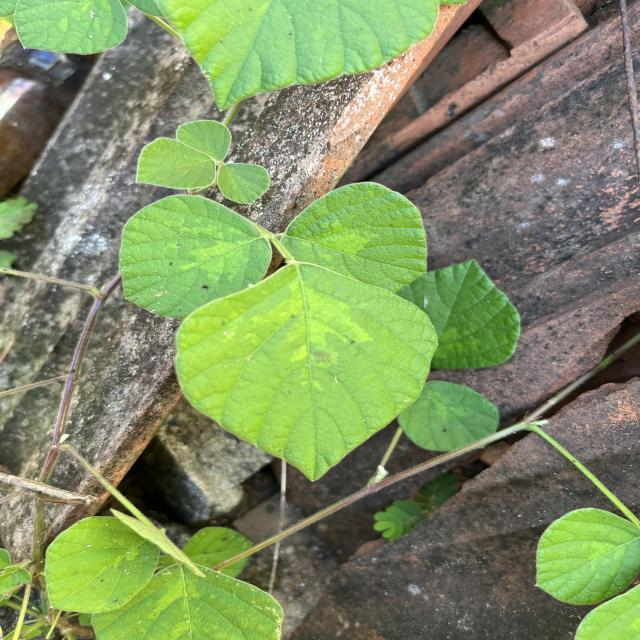Pseudarthria viscida: (117, 179, 440, 485), (134, 118, 272, 205)
